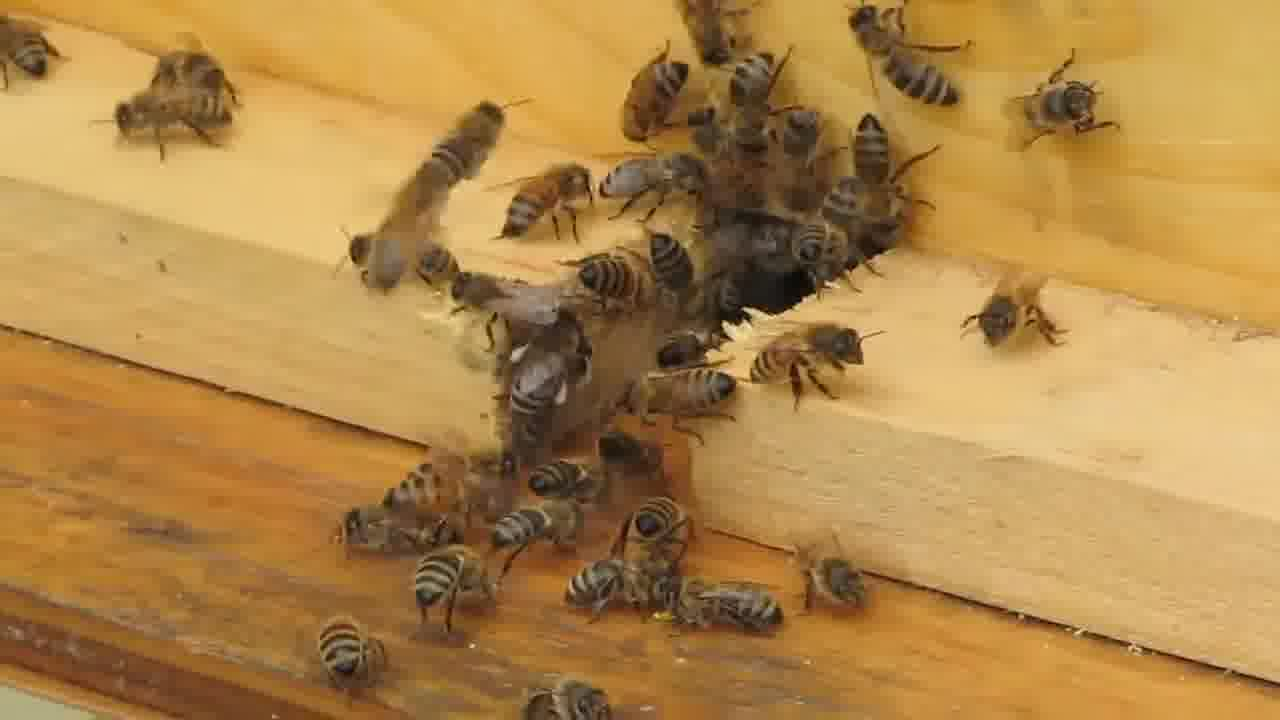pollen: (500, 307, 585, 429)
